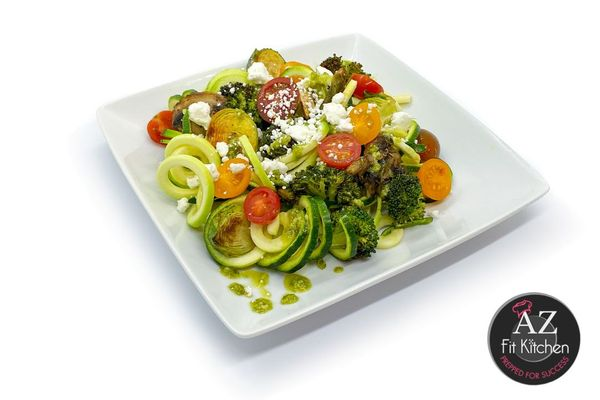curry: (252, 194, 333, 272)
